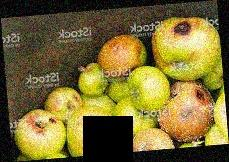rotten apple: (145, 14, 220, 78), (160, 78, 216, 138), (10, 107, 67, 158), (96, 35, 151, 78), (40, 86, 82, 119), (129, 128, 169, 151)
